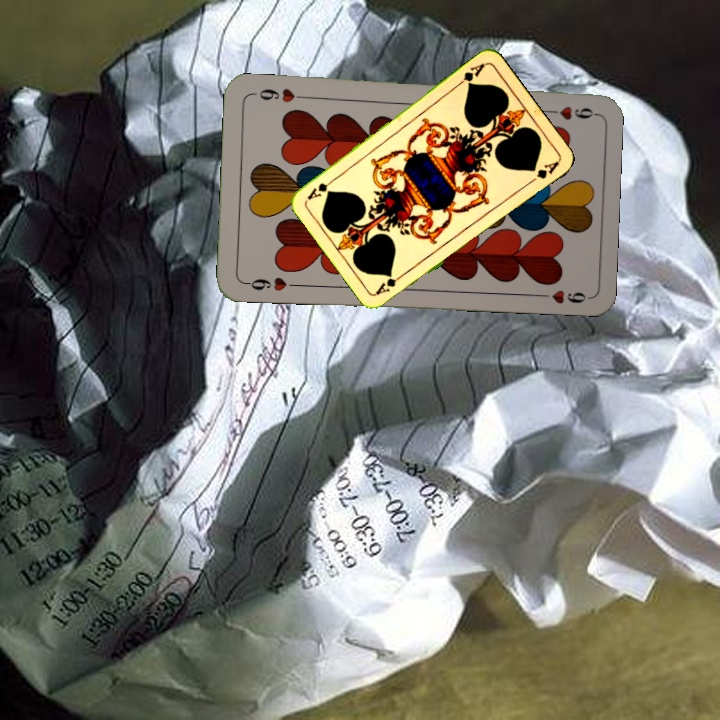GA: (453, 59, 488, 89), (372, 269, 408, 297)
H9: (241, 273, 300, 294), (538, 102, 597, 121)
